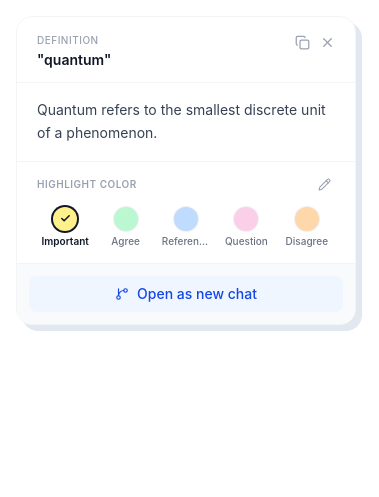
Scenario: FloatingPopup › Labels umbenennen (Slice 05, mockup-popup-edit-labels.html edit state) › Save persistiert nur geänderte Labels über die API
The image size is (379, 497).
Check: the text "Important" is shown, box [41, 234, 89, 247]
Click the button named "rename labels": (324, 184) [314, 174, 335, 194]
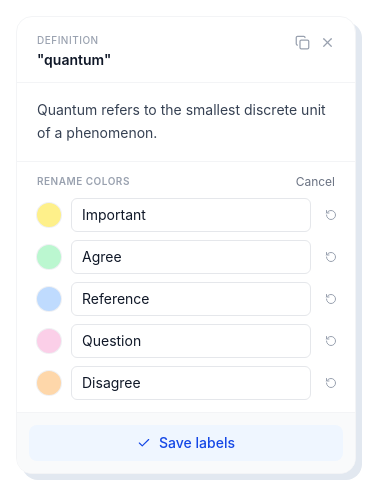
Check: the text "Rename colors" is shown, box [37, 174, 130, 189]
In the field named "label for yellow": (191, 214) [71, 198, 311, 232], type "Merken"
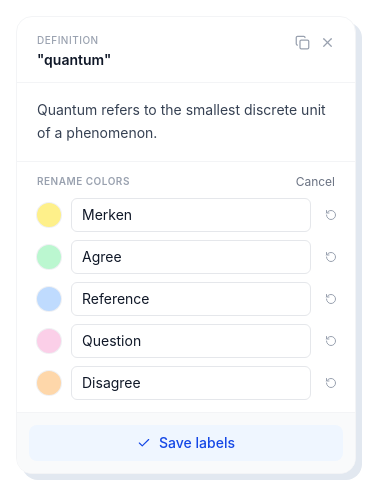
Click the button "Save labels": (186, 442) [29, 424, 343, 460]
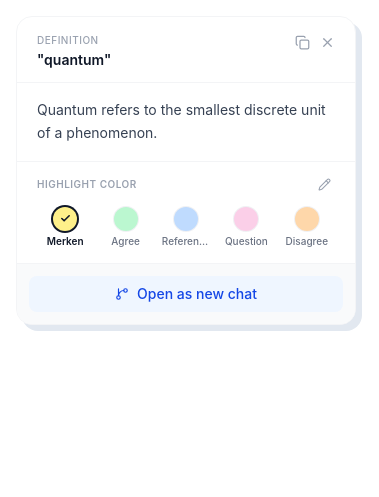
Check: the text "Merken" is shown, box [47, 234, 84, 246]
